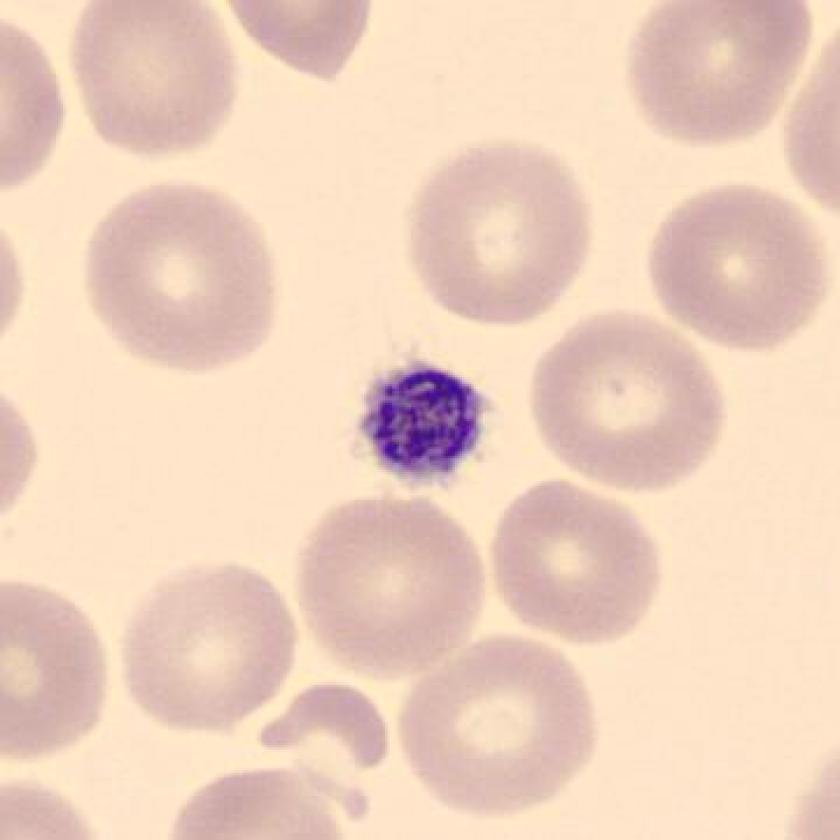platelets: (346, 344, 503, 496)
